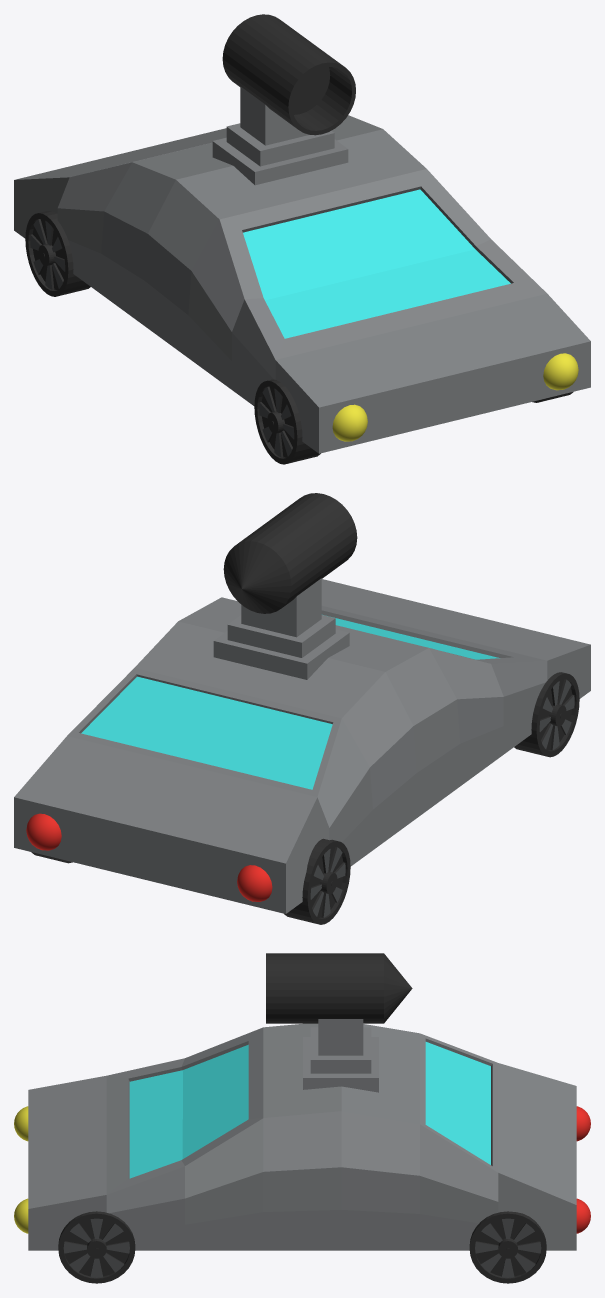
Rendered from CannonCar.fbx.
3 views of the same model, one above another, from view 1: azimuth 30°, elevation 25°; view 2: azimuth 150°, elevation 25°; view 3: azimuth 270°, elevation 25° (orthographic). The views are drawn at different scales.
Visible parts, largest first — view 1: Car; view 2: Car; view 3: Car.
Boxes of the visible parts, x1,y1,x2,y2 form: Car: (14,14,590,464); Car: (14,493,590,924); Car: (14,953,590,1283).
Bounding box in the file's own units: 680 × 662 × 1308.
